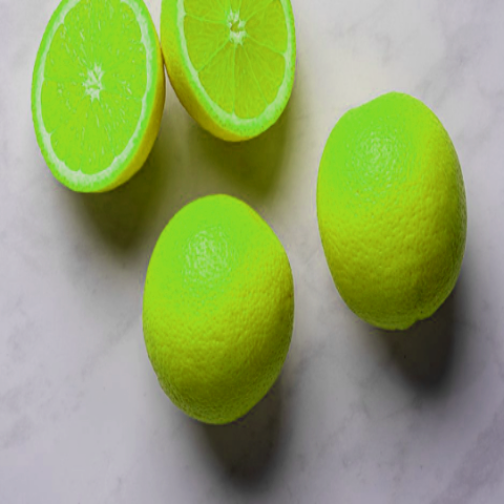orange: (302, 87, 474, 335), (128, 188, 305, 420)
